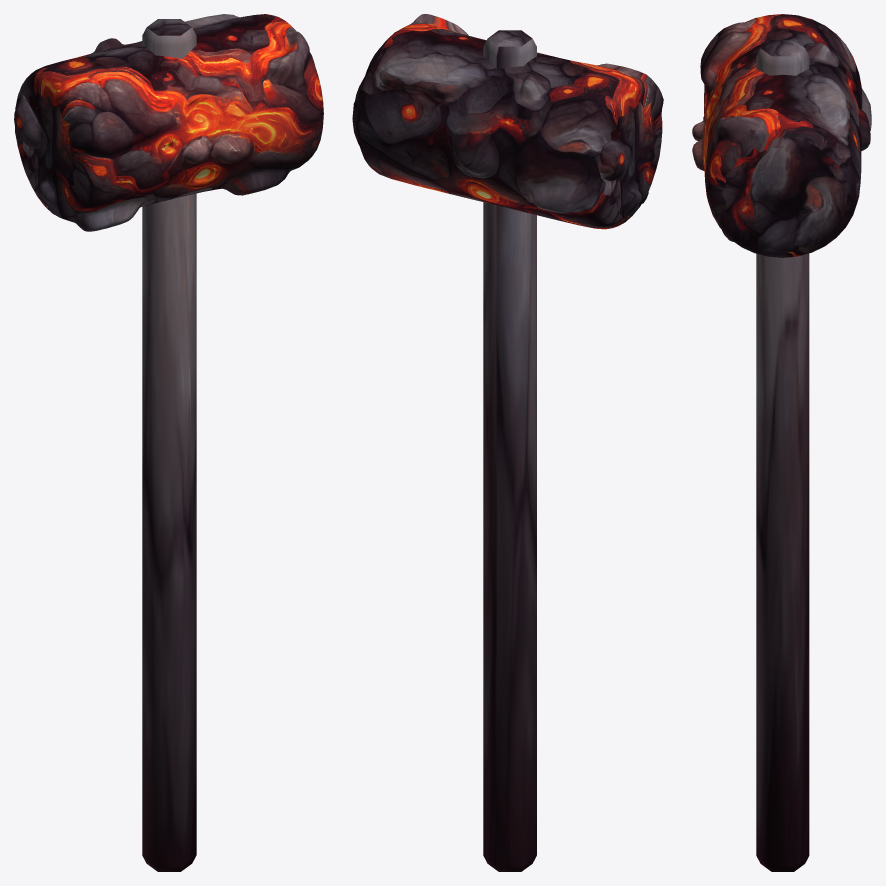
File: LavaMallet.fbx
3 renders of one model, left to right at view 1: azimuth 30°, elevation 25°; view 2: azimuth 150°, elevation 25°; view 3: azimuth 270°, elevation 25°, orthographic. The views are drawn at different scales.
Visible parts, largest first — view 1: LavaMallet; view 2: LavaMallet; view 3: LavaMallet.
Boxes of the visible parts, left/top/right/bottom form: LavaMallet: left=14, top=14, right=323, bottom=871; LavaMallet: left=352, top=14, right=663, bottom=871; LavaMallet: left=692, top=14, right=871, bottom=871.
Bounding box in the file's own units: 40.59 × 124 × 24.53.
Materials: 1 (1 with a texture image).
